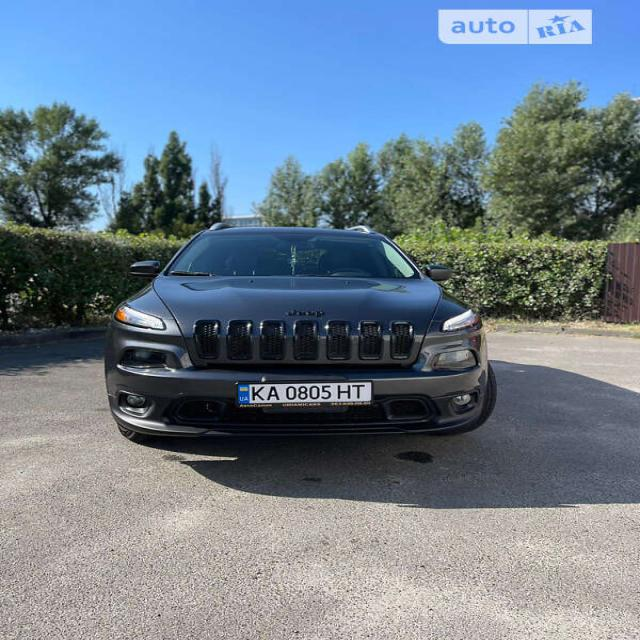plate: (237, 375, 372, 416)
